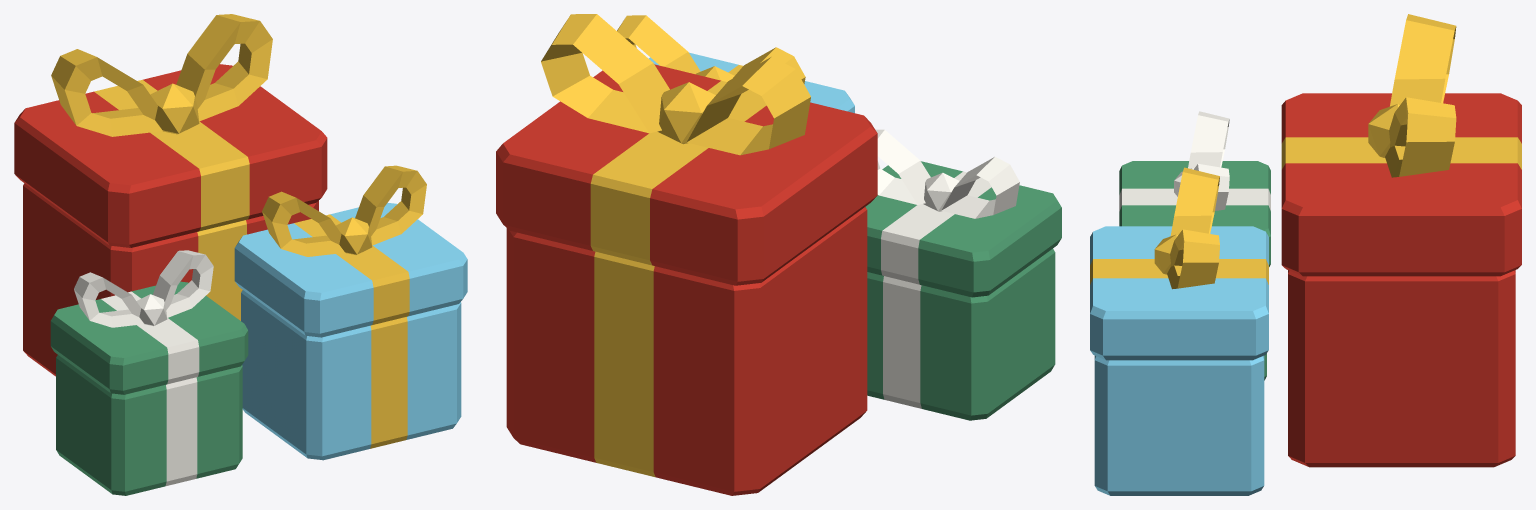
File: WrappedGifts.glb
3 views of the same model, side by side, from view 1: azimuth 30°, elevation 25°; view 2: azimuth 150°, elevation 25°; view 3: azimuth 270°, elevation 25° (orthographic). The views are drawn at different scales.
Visible parts, largest first — view 1: WrappedGifts; view 2: WrappedGifts; view 3: WrappedGifts.
Boxes of the visible parts, box(x1,y1,x2,y2) form: WrappedGifts: box(14, 14, 467, 495); WrappedGifts: box(496, 14, 1061, 495); WrappedGifts: box(1090, 14, 1521, 495).
Bounding box in the file's own units: 0.7808 × 0.6948 × 0.767.
1 material, 1 textured.
